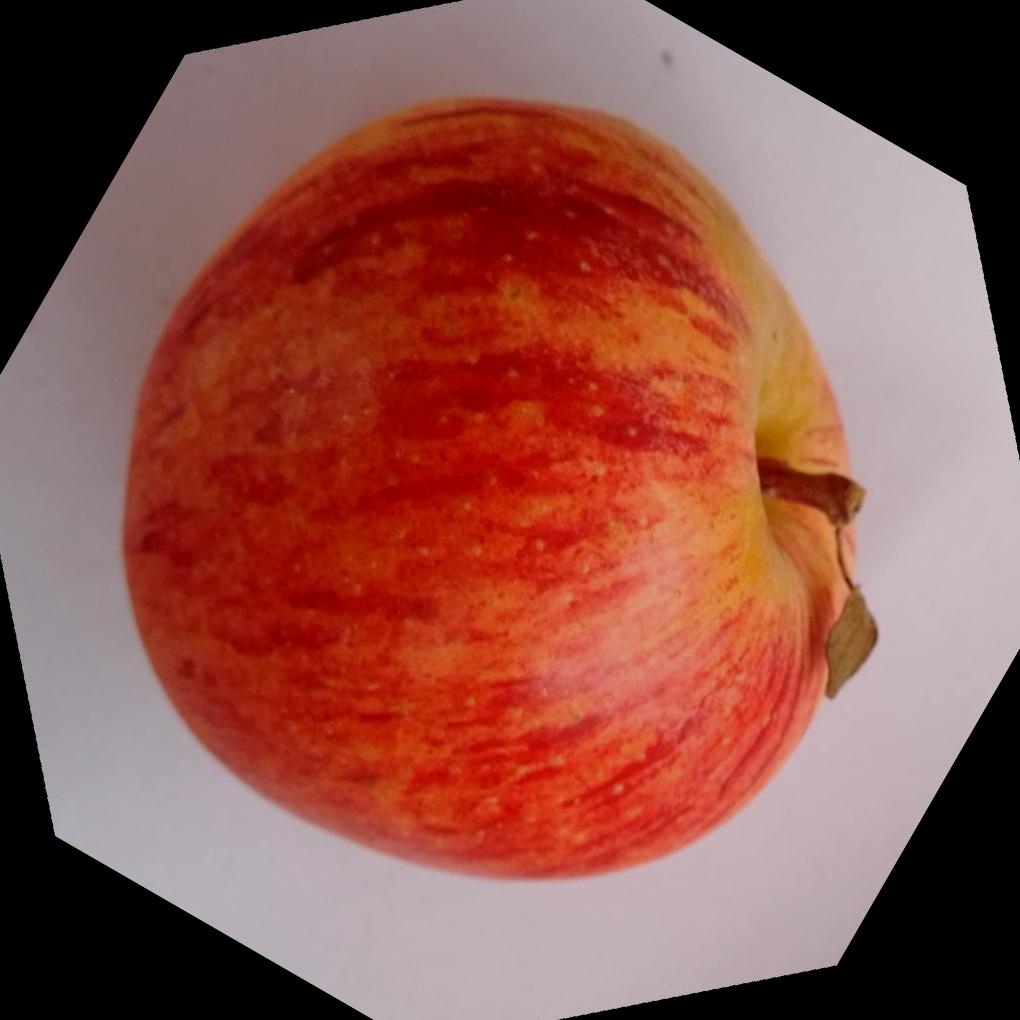FreshGuava: (120, 94, 881, 888)
